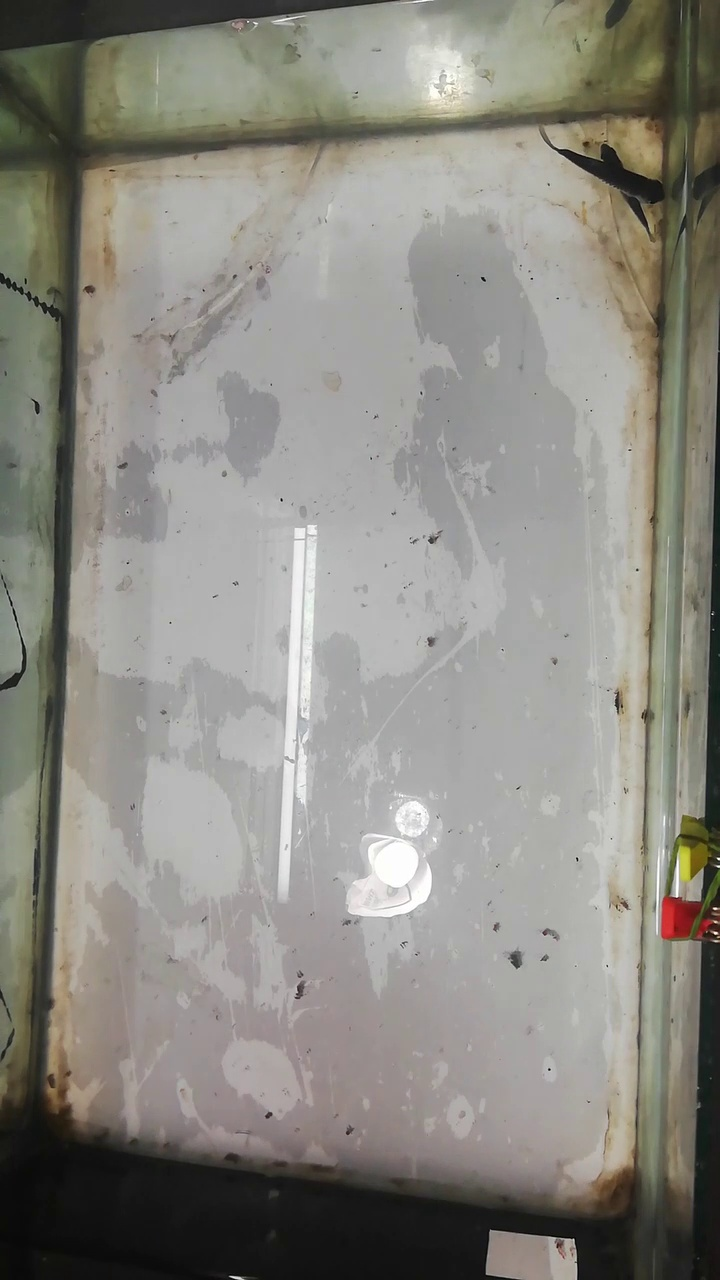fish1: (541, 134, 665, 202)
fish2: (600, 140, 653, 242)
